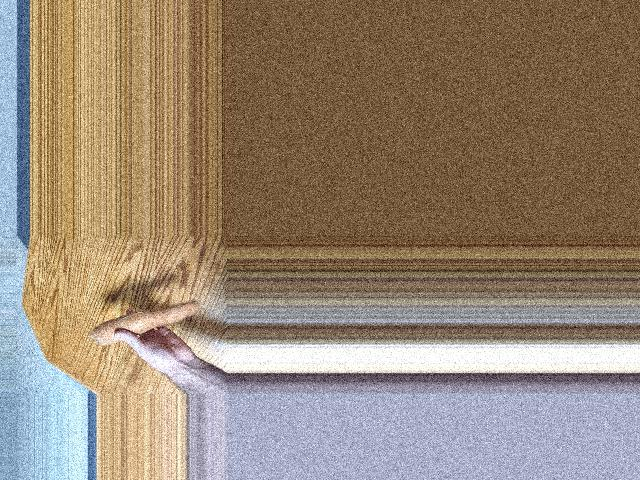sweet_potato: (92, 309, 204, 339)
